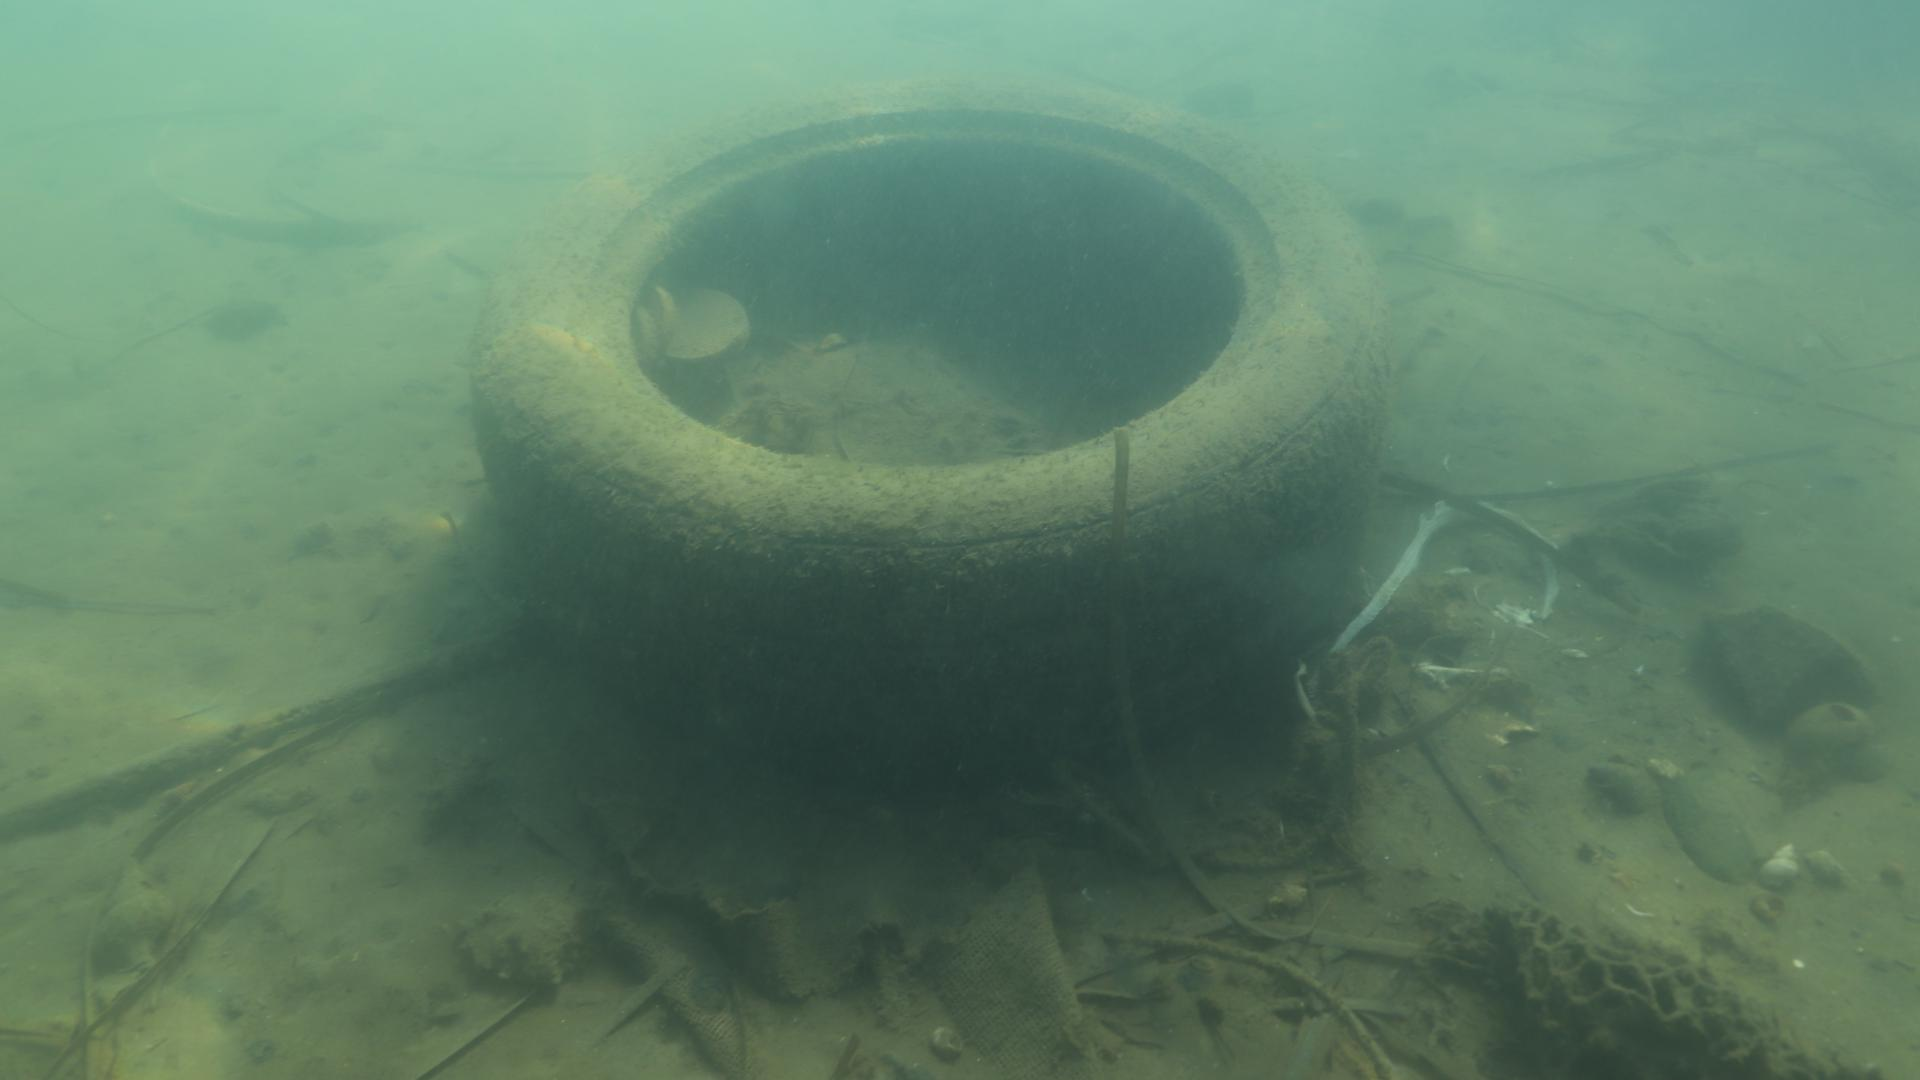fish net: (1501, 899, 1896, 1080)
tire: (468, 78, 1396, 777)
